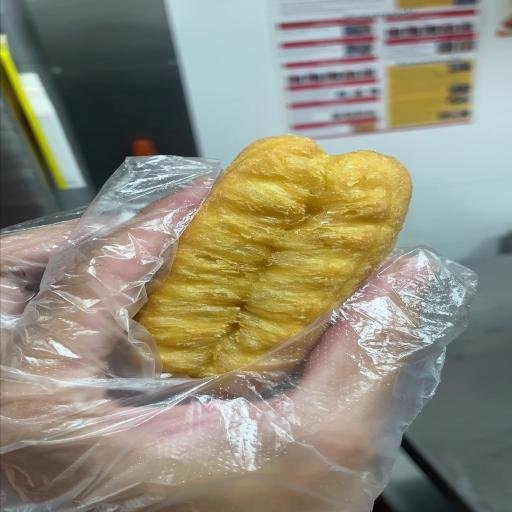brand_golden_good: (138, 135, 411, 377)
